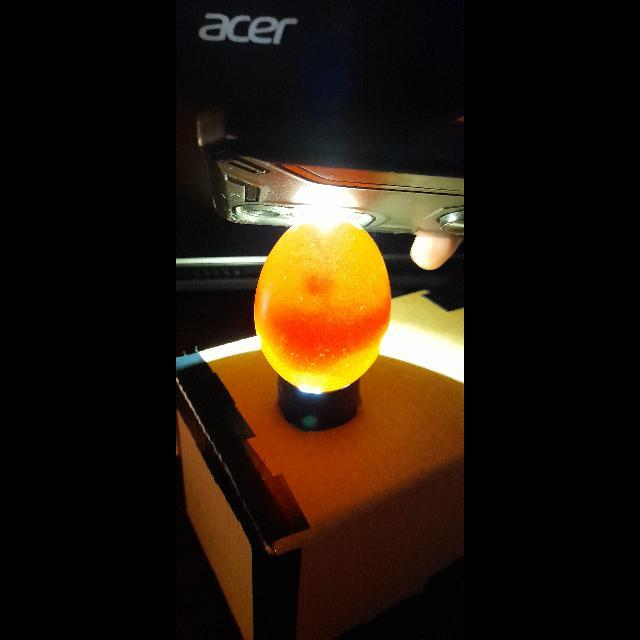Fertile: (256, 205, 392, 398)
